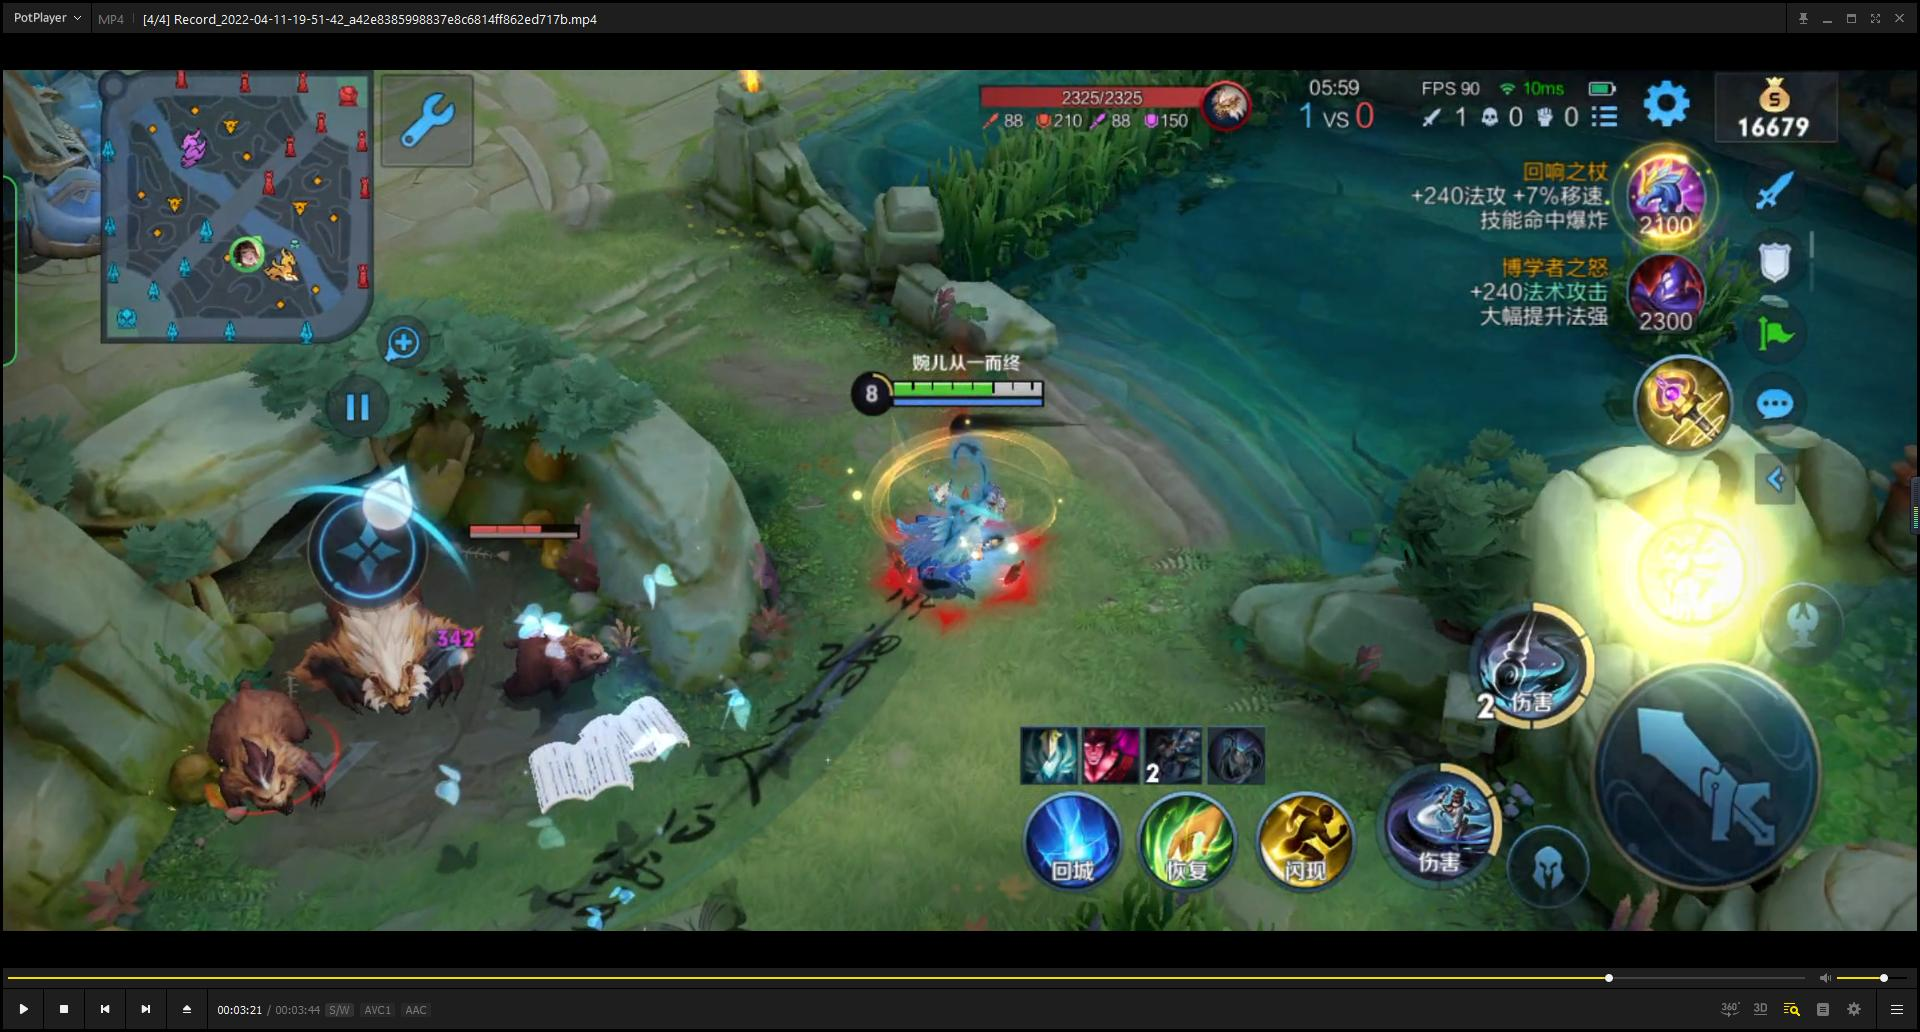Hero: (855, 423, 1085, 599)
Pig: (178, 663, 374, 852), (291, 548, 455, 727), (488, 564, 619, 749)
